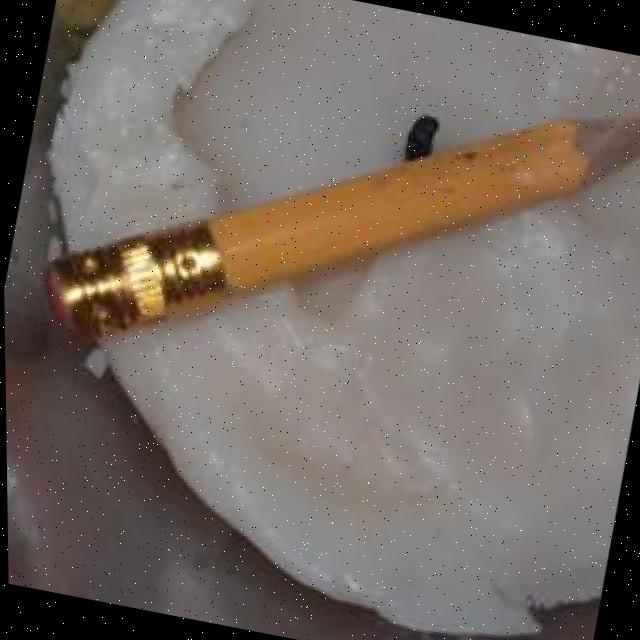pencil: (19, 98, 640, 363)
